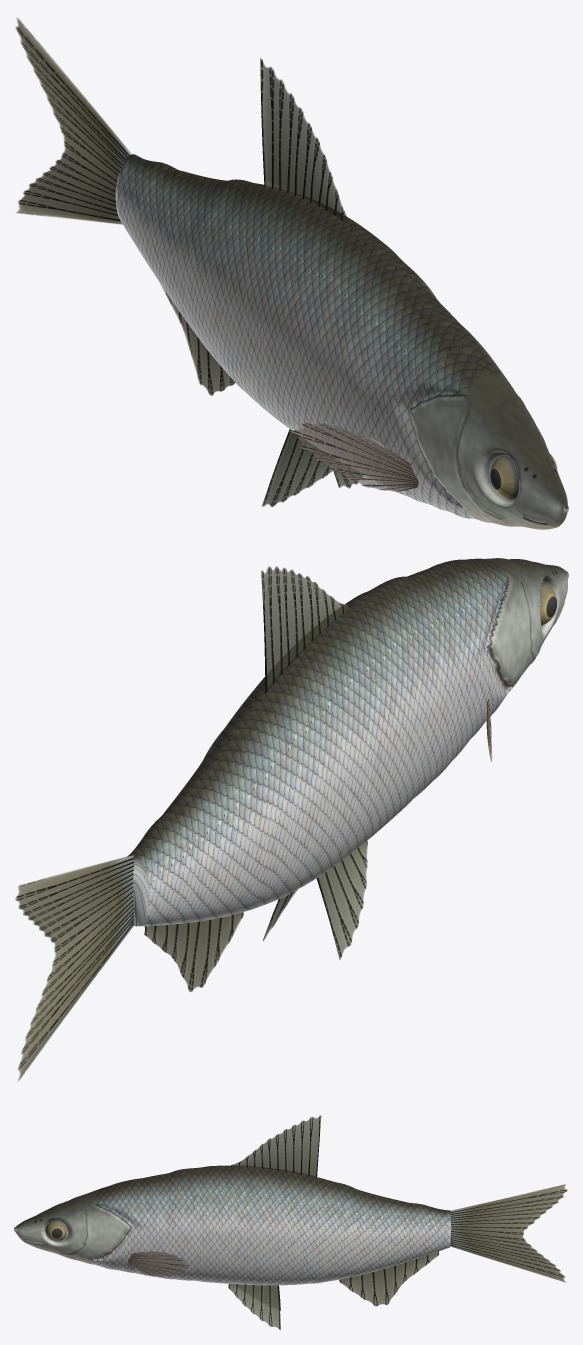
File: certa.glb
The picture shows the model from 3 angles, top to bottom: view 1: azimuth 30°, elevation 25°; view 2: azimuth 150°, elevation 25°; view 3: azimuth 270°, elevation 25°; orthographic projection. The views are drawn at different scales.
Visible parts, largest first — view 1: Body, FinCaudal, FinDorsal1, FinPectoral, FinPelvic, FinAnal, EyeLeft, CorneaLeft; view 2: Body, FinCaudal, FinDorsal1, FinAnal, FinPelvic; view 3: Body, FinCaudal, FinDorsal1, FinAnal, FinPelvic, FinPectoral, EyeRight, CorneaRight.
Part boxes in pixels (left/top/right/bottom): Body: left=115, top=154, right=568, bottom=529; FinCaudal: left=15, top=18, right=131, bottom=224; FinDorsal1: left=260, top=58, right=351, bottom=225; FinPectoral: left=290, top=422, right=418, bottom=491; FinPelvic: left=262, top=429, right=362, bottom=507; FinAnal: left=160, top=283, right=234, bottom=395; EyeLeft: left=490, top=455, right=519, bottom=499; CorneaLeft: left=490, top=455, right=518, bottom=499; Body: left=127, top=558, right=568, bottom=926; FinCaudal: left=15, top=855, right=134, bottom=1080; FinDorsal1: left=261, top=566, right=351, bottom=692; FinAnal: left=144, top=912, right=243, bottom=991; FinPelvic: left=263, top=841, right=367, bottom=959; Body: left=14, top=1165, right=451, bottom=1285; FinCaudal: left=450, top=1184, right=567, bottom=1282; FinDorsal1: left=231, top=1115, right=321, bottom=1177; FinAnal: left=339, top=1251, right=439, bottom=1306; FinPelvic: left=228, top=1284, right=280, bottom=1329; FinPectoral: left=128, top=1250, right=190, bottom=1276; EyeRight: left=45, top=1220, right=66, bottom=1241; CorneaRight: left=46, top=1220, right=66, bottom=1241.
Size of the model in its own units: 0.2116 by 0.411 by 1.
8 materials, 7 textured.
